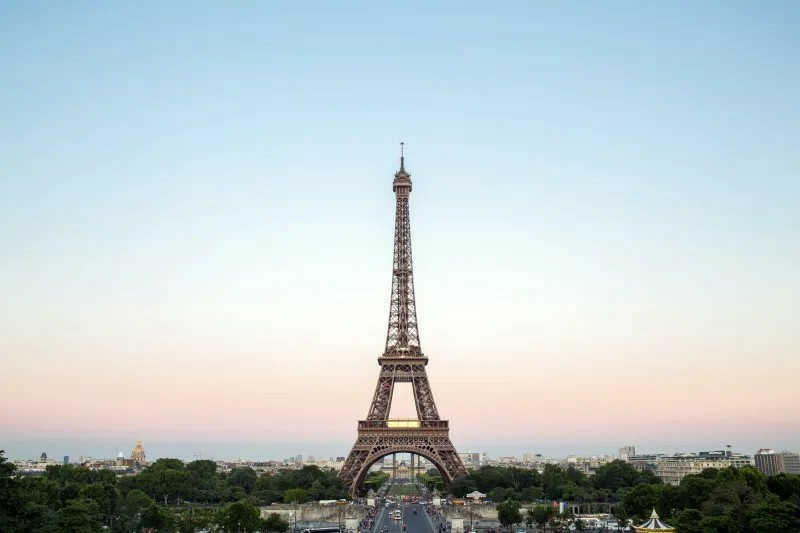Eiffel: (336, 142, 470, 499)
